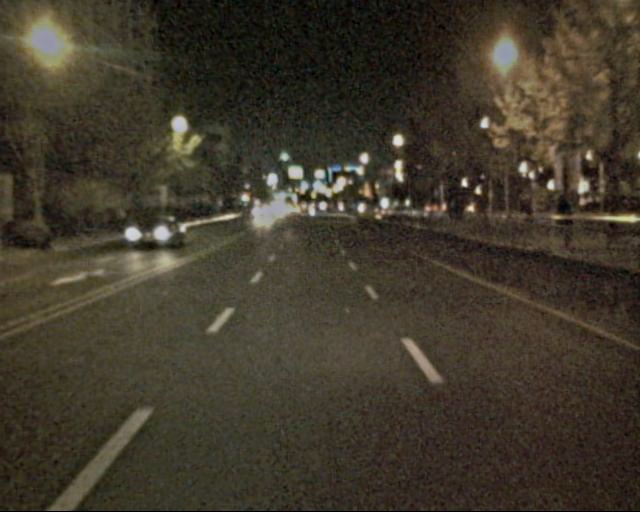person: (550, 189, 580, 257), (513, 189, 539, 248), (446, 196, 466, 222)
